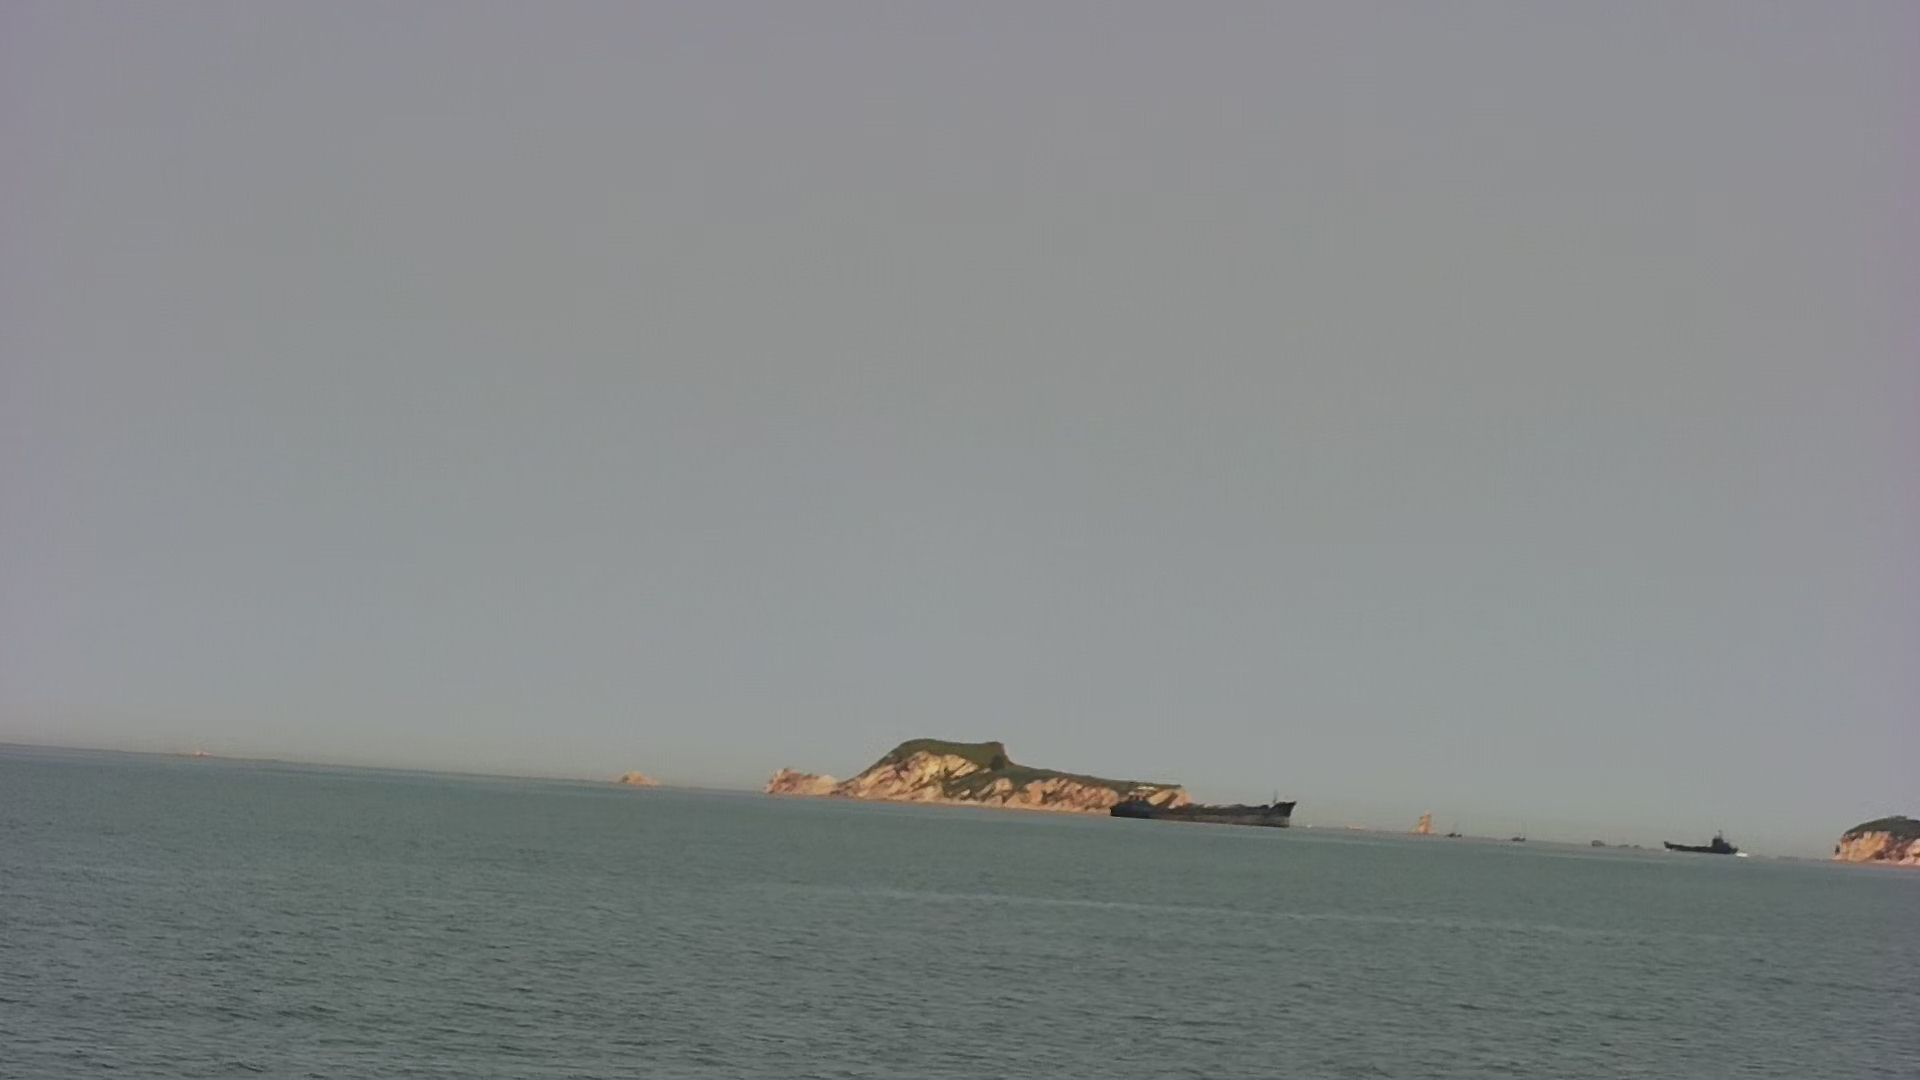rock: (733, 735, 1184, 818), (1832, 814, 1920, 869)
ship: (1104, 790, 1300, 828), (1662, 824, 1745, 857)
